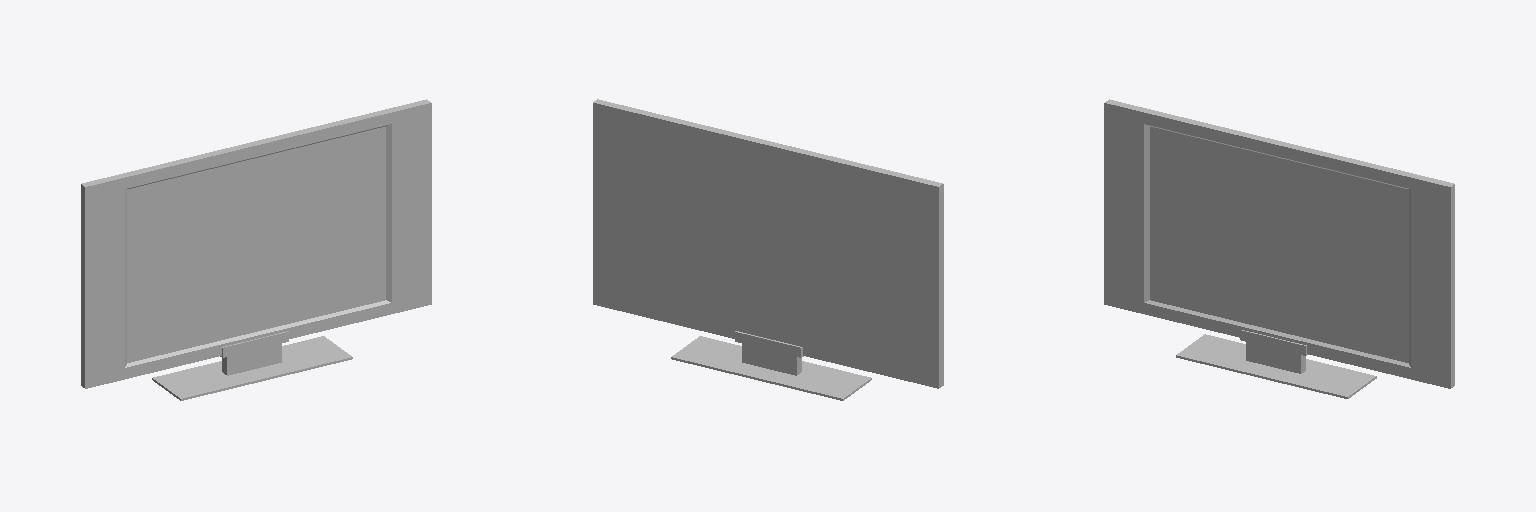
Rendered from Vray_Plasma_TV_obj.obj.
The picture shows the model from 3 angles: view 1: azimuth 30°, elevation 25°; view 2: azimuth 150°, elevation 25°; view 3: azimuth 330°, elevation 25°; orthographic projection.
Parts seen in each view (by area): view 1: Box01; view 2: Box01; view 3: Box01.
Boxes of the visible parts, box(x1,y1,x2,y2) form: Box01: box(81, 99, 431, 400); Box01: box(593, 99, 943, 400); Box01: box(1104, 99, 1454, 398).
Size of the model in its own units: 109 by 67.7 by 15.71.